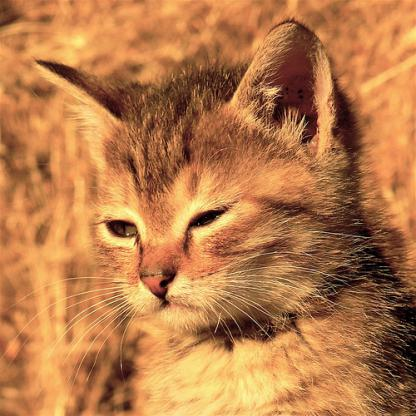cat: (14, 18, 397, 415)
